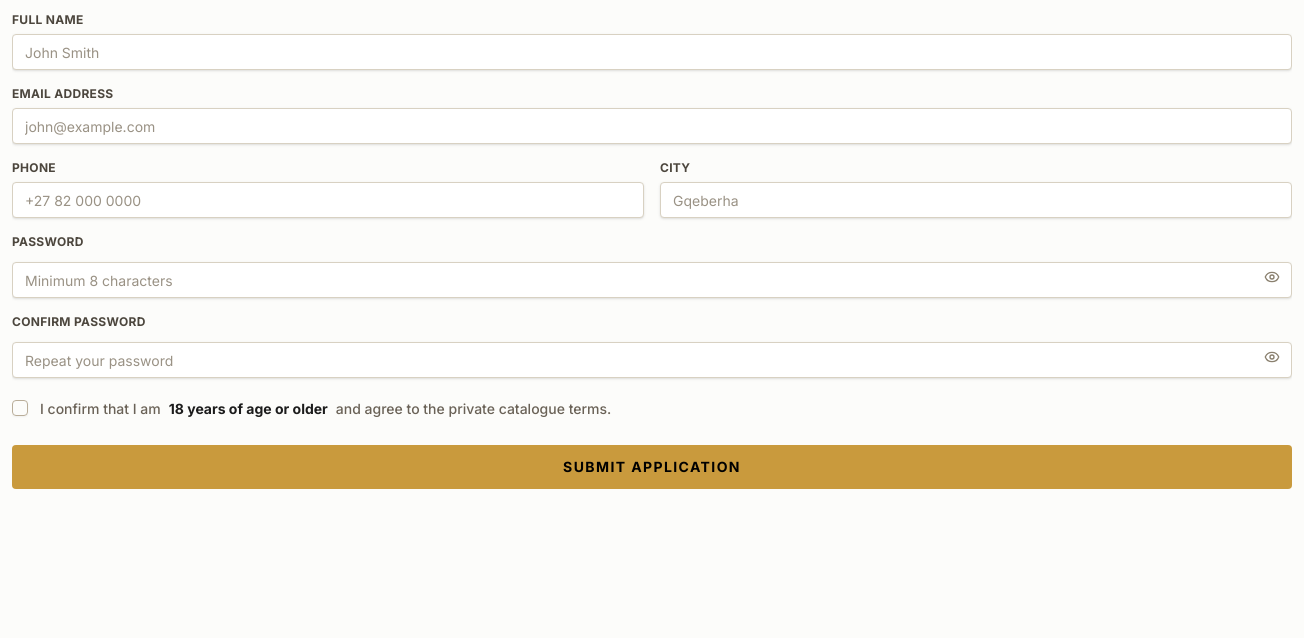
RegistrationForm › shows validation errors and blocks submission until age is confirmed
This screenshot has width=1304, height=638.
Step 1. Click the button "Submit Application" → x=652, y=467, box [12,445,1292,489]
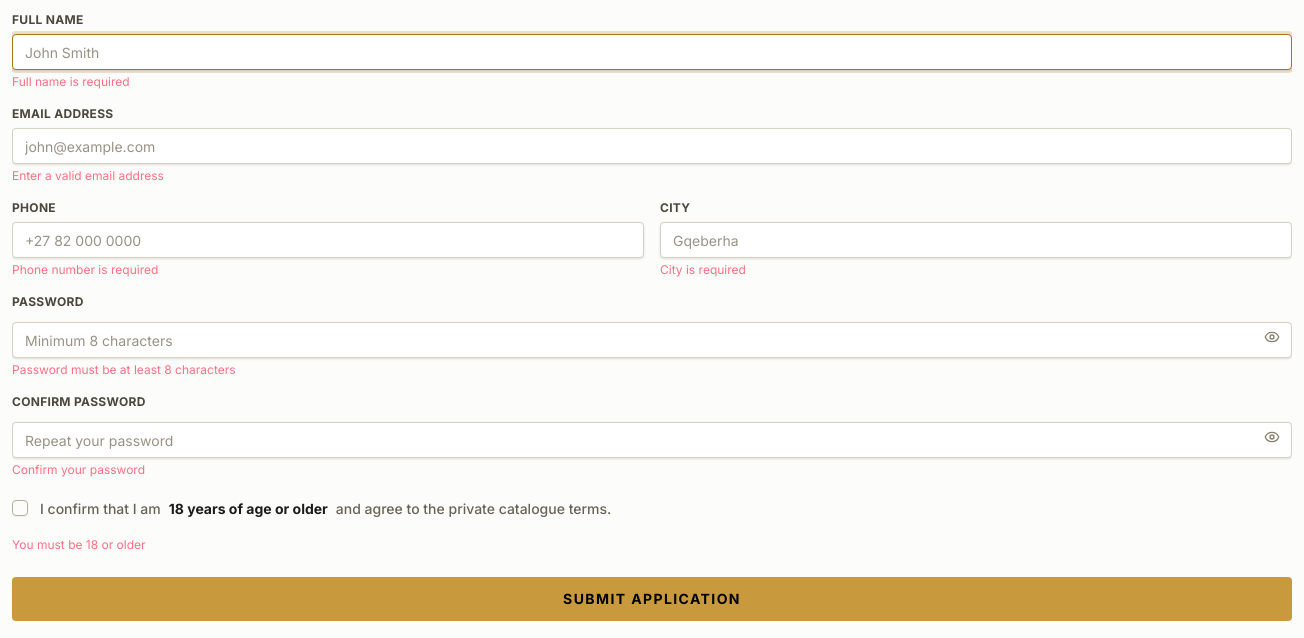
Expected: the text "Full name is required" is shown, [12,74,130,89]
Expected: the text "You must be 18 or older" is shown, [12,537,146,552]
